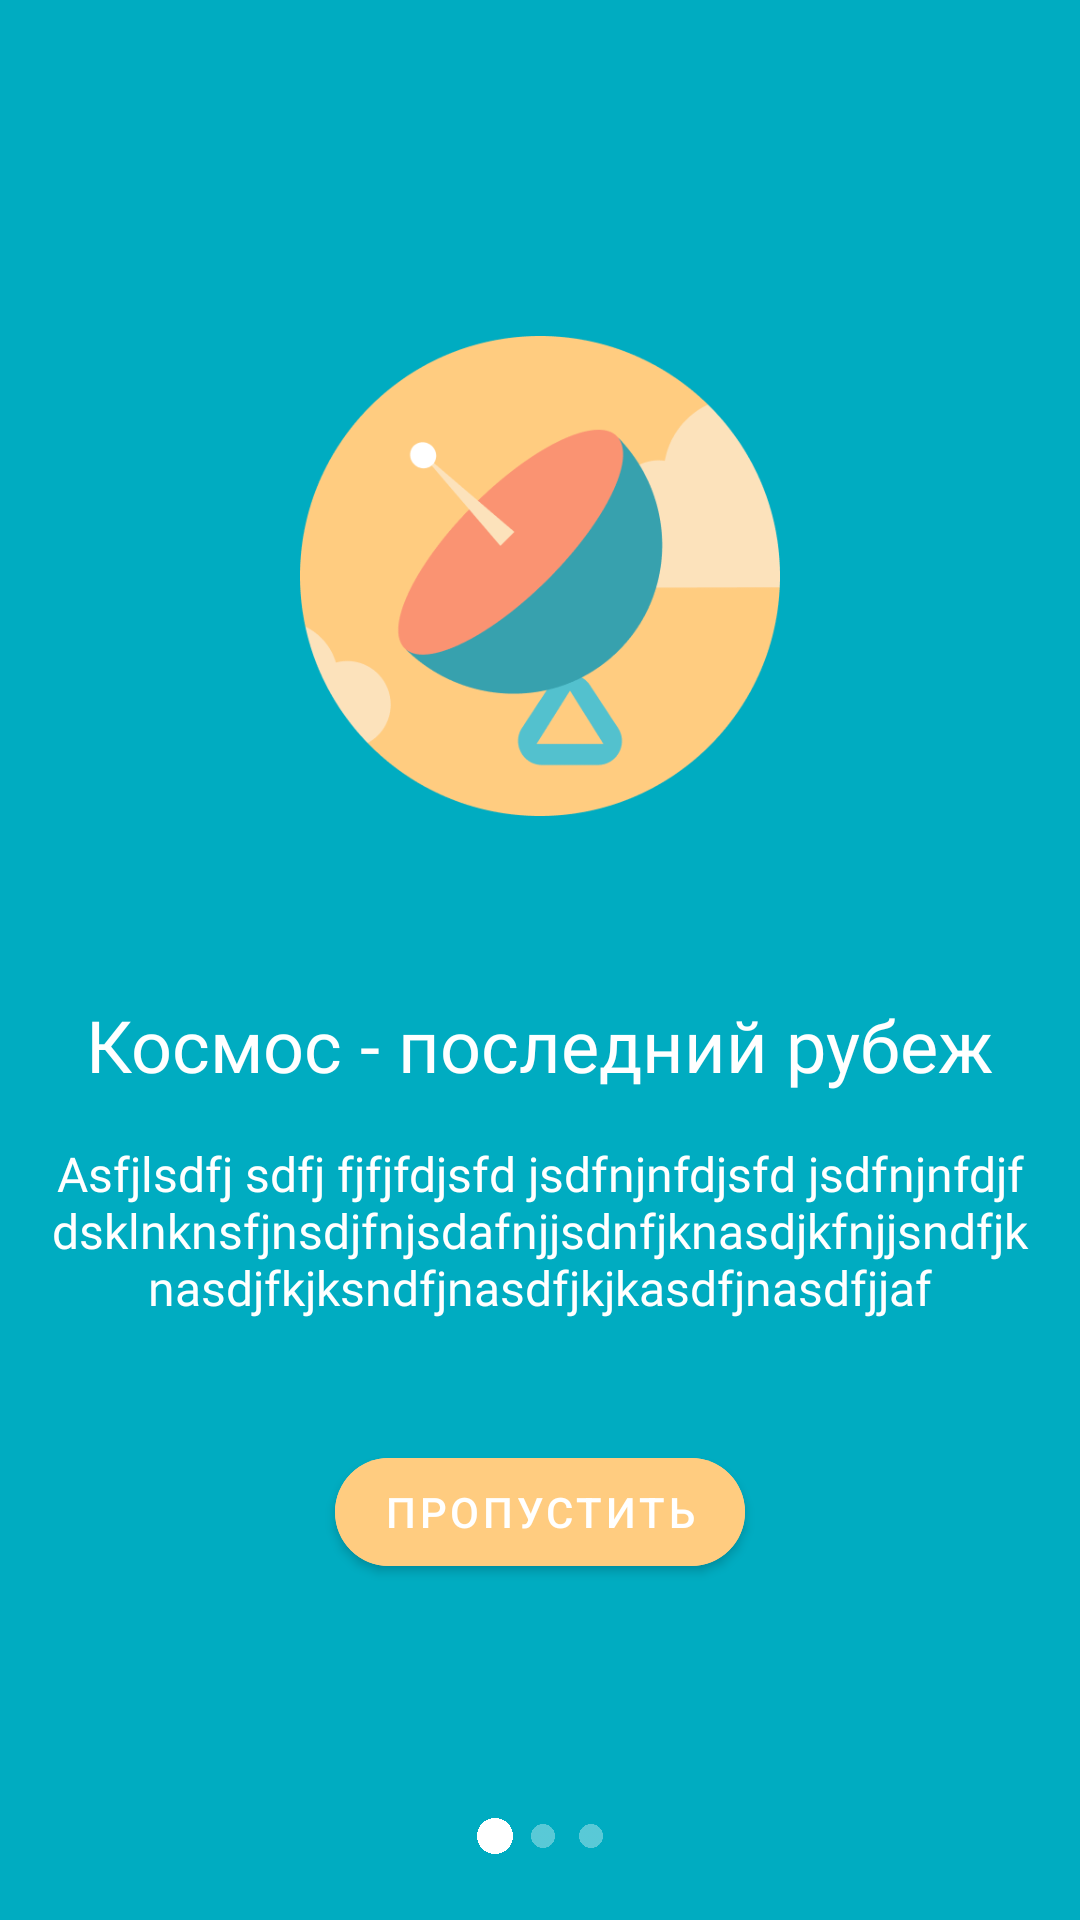

Named icons in this screenshot (1080*1920) and their bounding boxes, [x1=x1, y1=y1, x2=x2, y2=y2]:
Paiging: [x1=477, y1=1818, x2=603, y2=1854]
